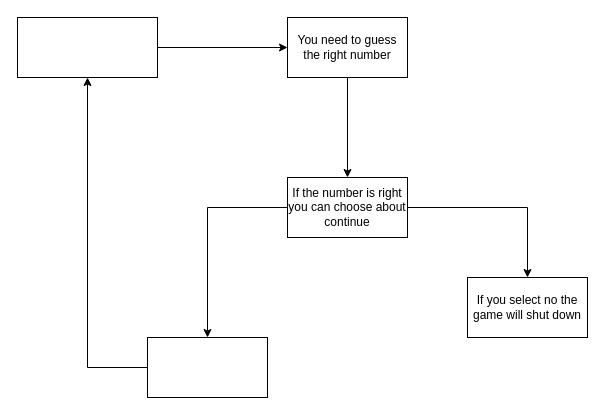
This 605x415 diagram has some shape labels left out. Each missing label, with the box of its shape:
If you select yes the game will start again automatically: (146, 336, 268, 398)
Starting the game: (16, 16, 158, 78)
